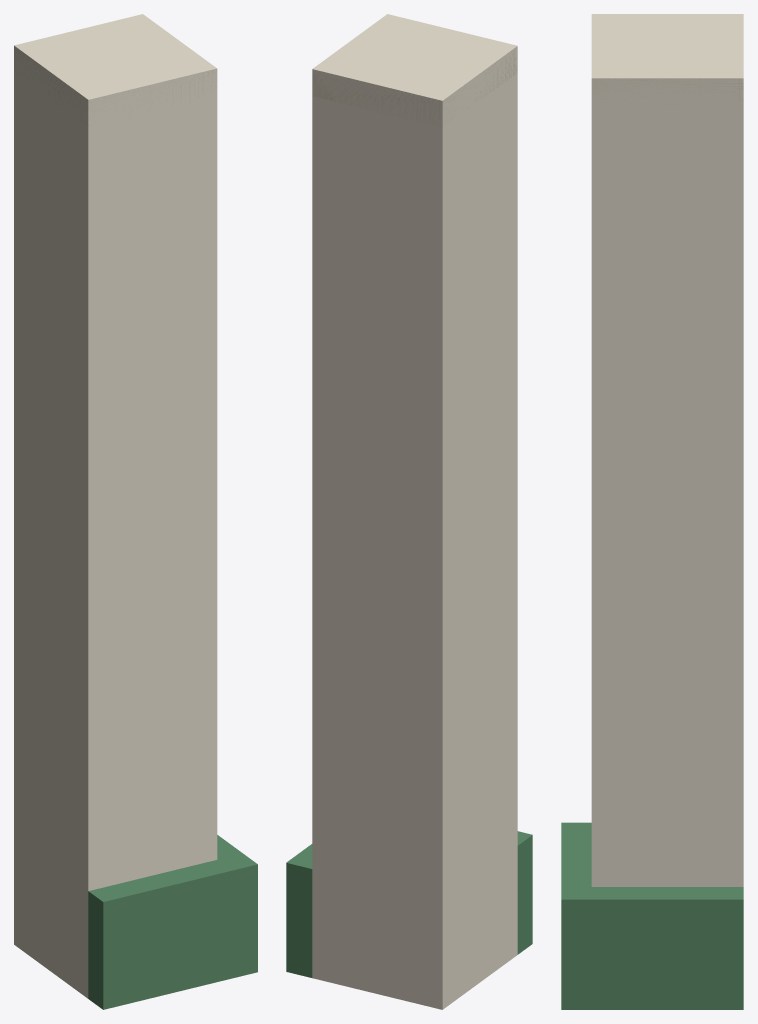
The model's file is wall-corner.glb.
3 renders of one model, left to right at view 1: azimuth 30°, elevation 25°; view 2: azimuth 150°, elevation 25°; view 3: azimuth 270°, elevation 25°, orthographic. The views are drawn at different scales.
Visible parts, largest first — view 1: wall-corner; view 2: wall-corner; view 3: wall-corner.
Boxes of the visible parts, box(x1,y1,x2,y2) form: wall-corner: box(14, 14, 257, 1009); wall-corner: box(286, 14, 532, 1009); wall-corner: box(561, 14, 743, 1009).
Size of the model in its own units: 0.18 by 1 by 0.18.
1 material, 1 textured.
